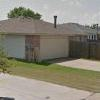Chimney: (47, 11, 62, 35)
